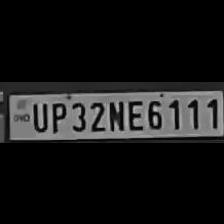1: (164, 96, 182, 130), (202, 96, 220, 128), (183, 96, 200, 128)
2: (86, 97, 106, 130)
3: (68, 97, 86, 130)
6: (144, 97, 164, 129)
E: (125, 96, 142, 130)
N: (106, 97, 124, 130)
P: (47, 98, 66, 132)
U: (29, 99, 47, 131)
